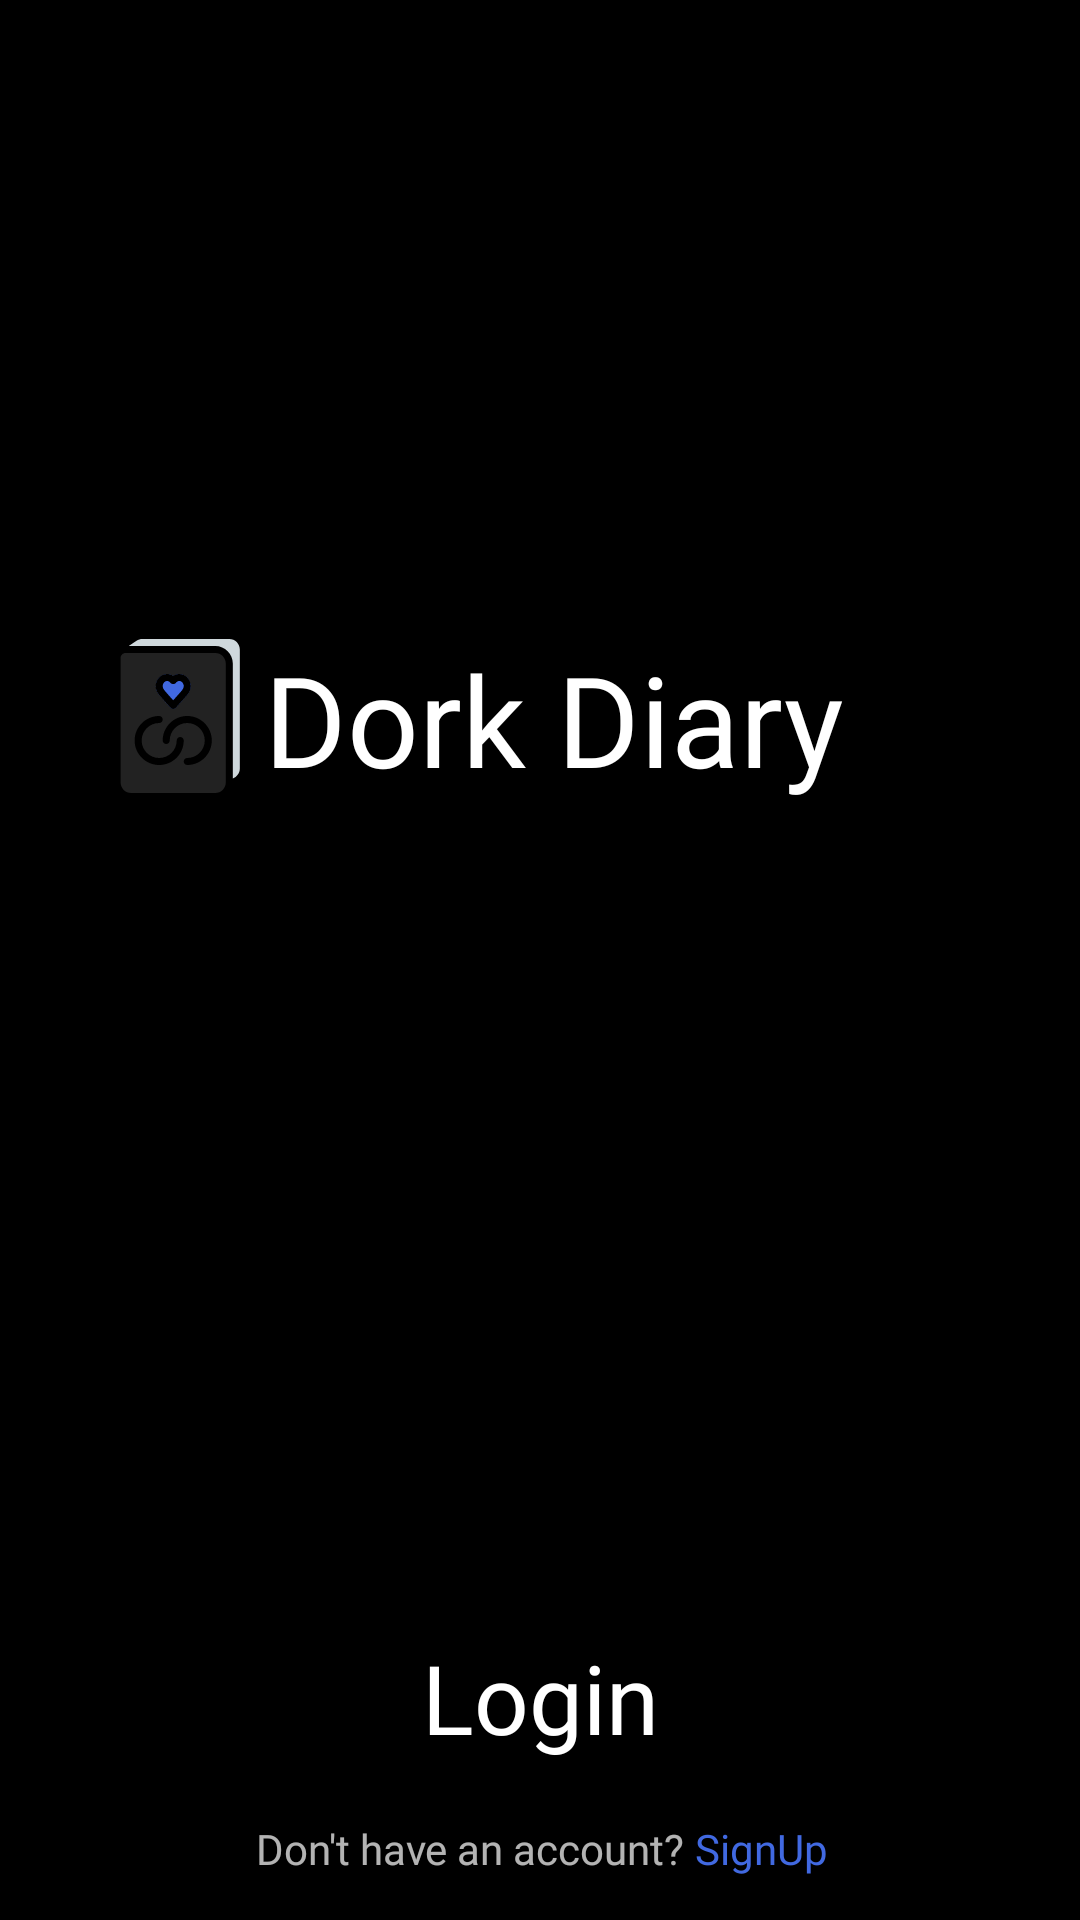

Locate icon controls on the screen. Image size 1080*1920, boxes as bbox(x1, y1, x2, y2).
app: bbox(121, 639, 240, 793)
